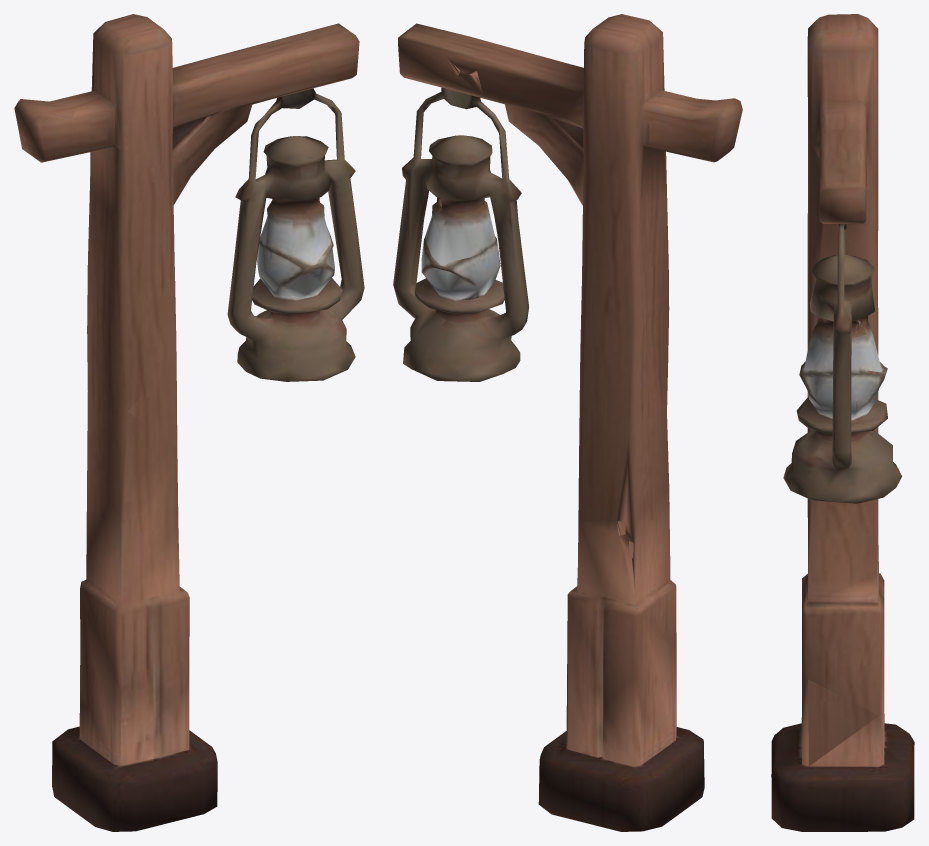
The model's file is sz-lantern-post.glb.
3 views of the same model, side by side, from view 1: azimuth 30°, elevation 25°; view 2: azimuth 150°, elevation 25°; view 3: azimuth 270°, elevation 25° (orthographic).
Visible parts, largest first — view 1: geometry_0; view 2: geometry_0; view 3: geometry_0.
Part boxes in pixels (box(x1,y1,x2,y2)): geometry_0: box(14, 14, 364, 831); geometry_0: box(393, 14, 742, 831); geometry_0: box(771, 14, 914, 831).
Bounding box in the file's own units: 0.4582 × 1 × 0.1665.
1 material, 1 textured.
